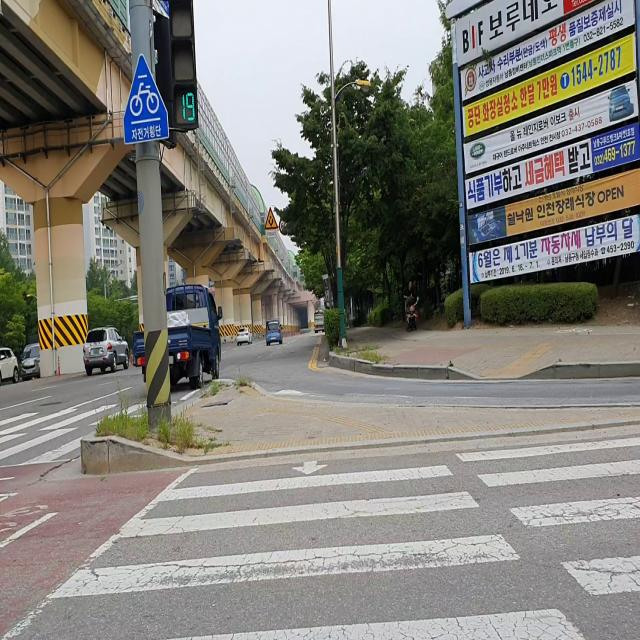횡단보도: (45, 429, 640, 640)
